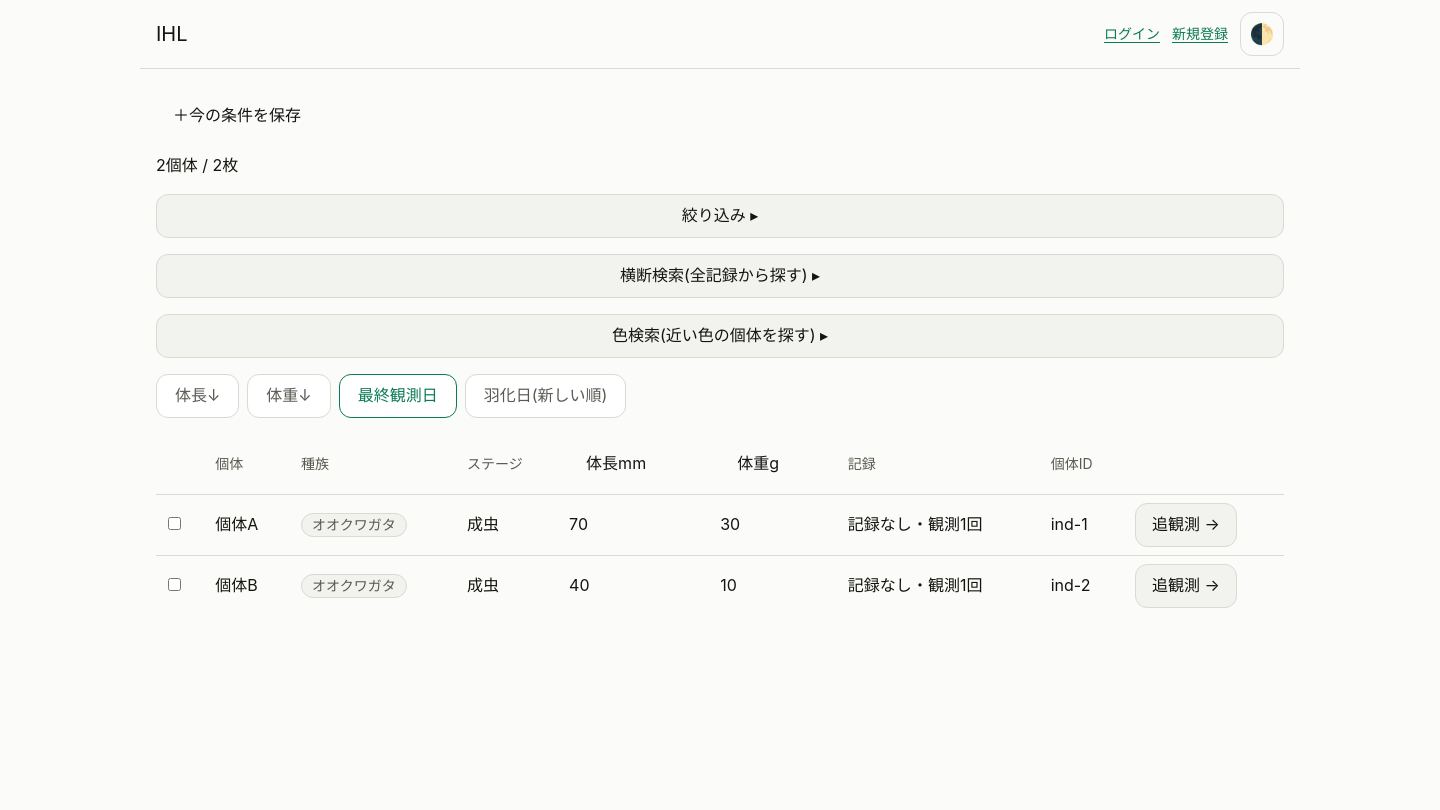
Scenario: T4: NumericFilterRow — 以上/以下/付近の3ボタン常時表示クリック選択 › 「以上」を選ぶと単一値入力に切り替わり、体長70以上だけに絞られる
This screenshot has width=1440, height=810.
Expected: the text "2個体 / 2枚" is shown, left=156, top=155, right=238, bottom=175
Click the button "絞り込み ▸" at (720,216), box left=156, top=194, right=1284, bottom=238
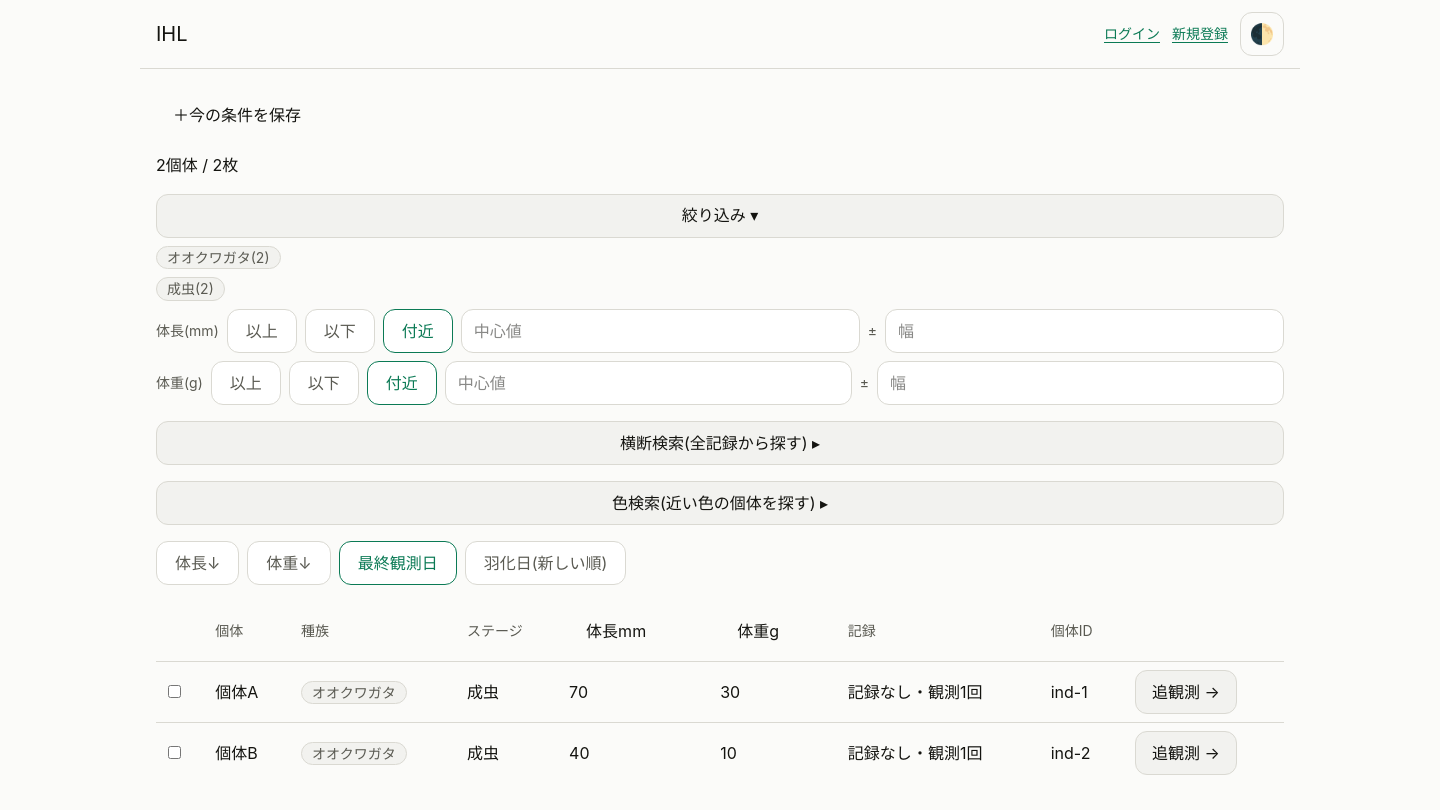
Click the radio button labelled "以上" next to "体長(mm)" at (262,331), box left=227, top=309, right=297, bottom=353
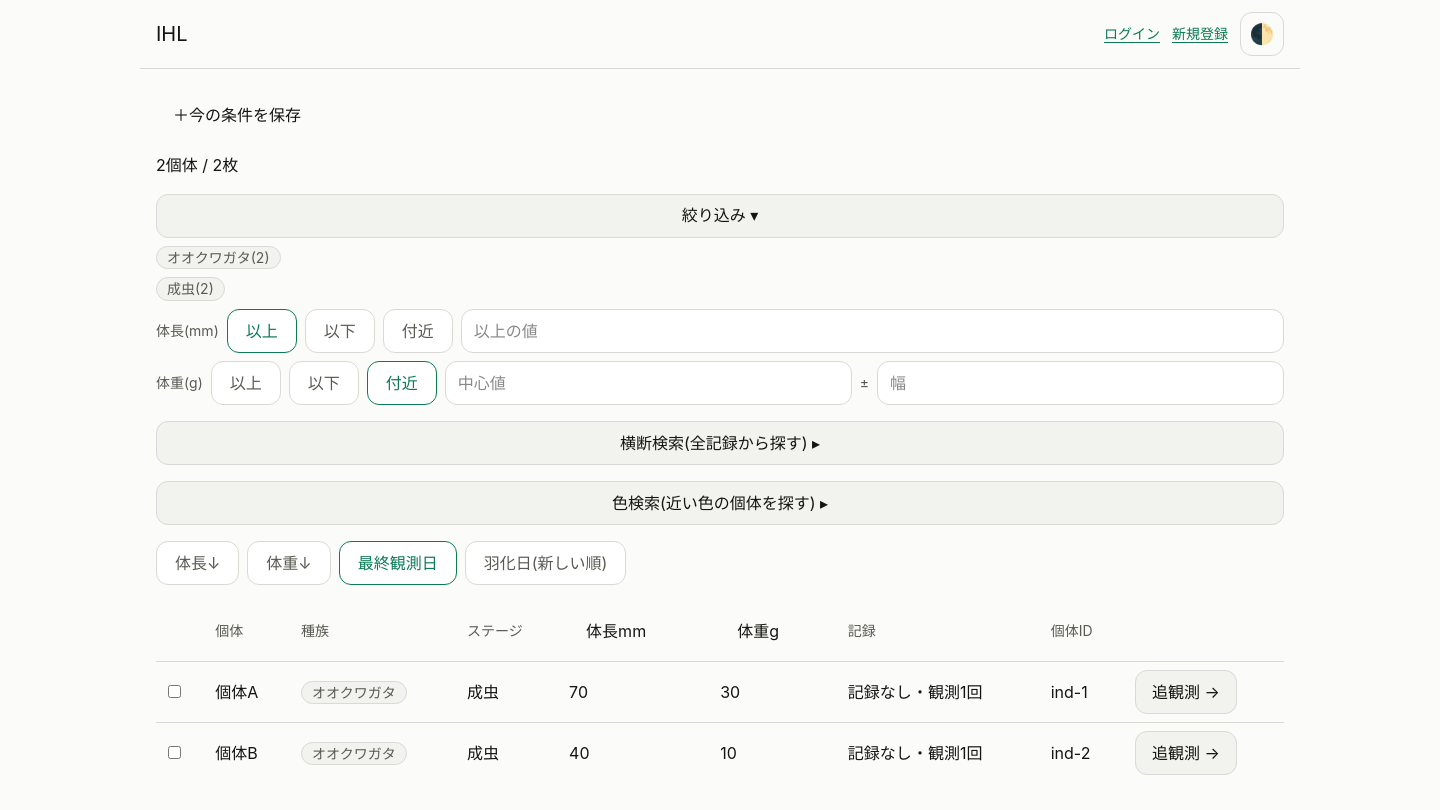
Type "50" into the number field with placeholder "以上の値" at (872,331), box left=461, top=309, right=1284, bottom=353
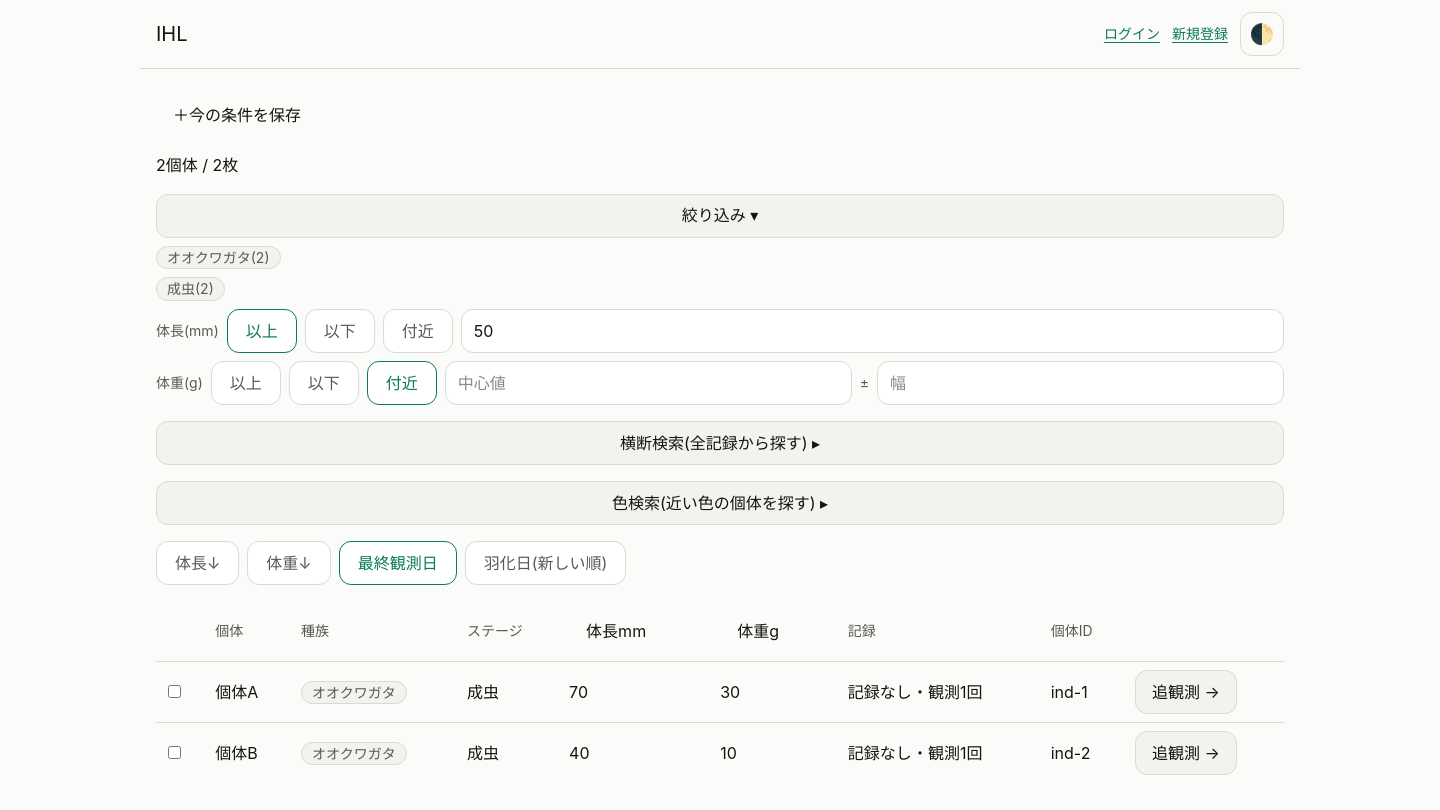
Leave the number field with placeholder "以上の値", box left=461, top=309, right=1284, bottom=353
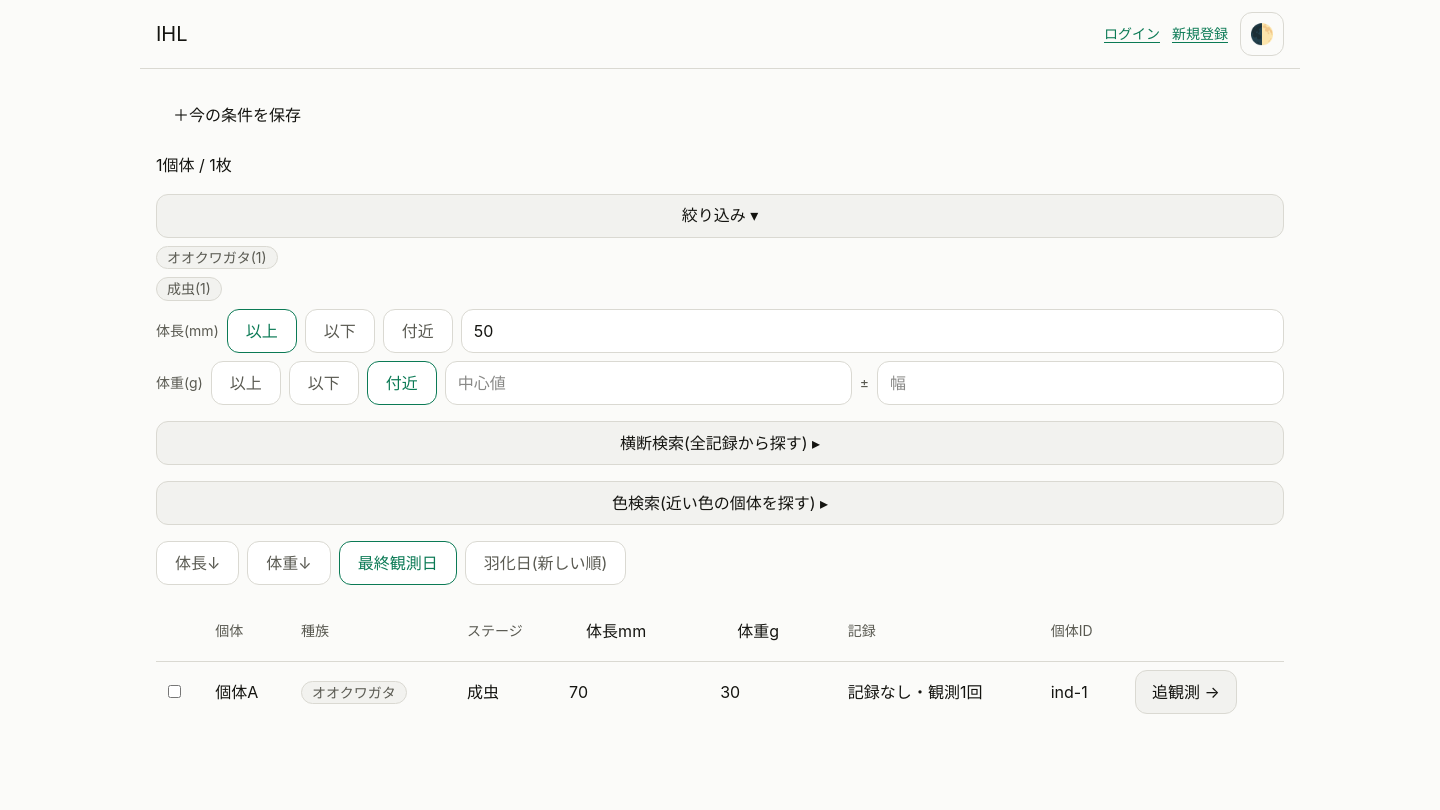
Expected: the text "1個体 / 1枚" is shown, left=156, top=155, right=232, bottom=175
